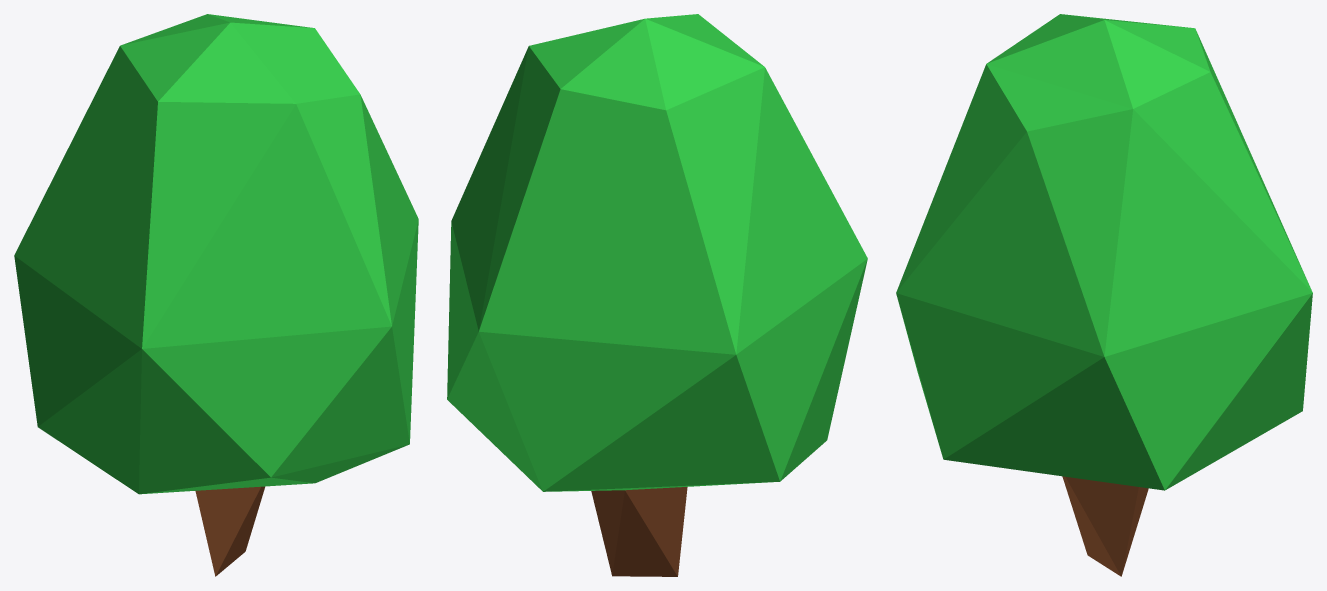
File: bush.fbx
3 renders of one model, left to right at view 1: azimuth 30°, elevation 25°; view 2: azimuth 150°, elevation 25°; view 3: azimuth 270°, elevation 25°, orthographic. The views are drawn at different scales.
Parts seen in each view (by area): view 1: Cylinder; view 2: Cylinder; view 3: Cylinder.
Boxes of the visible parts, bbox=[...] form: Cylinder: bbox=[14, 14, 418, 576]; Cylinder: bbox=[447, 14, 867, 576]; Cylinder: bbox=[896, 14, 1312, 576].
Size of the model in its own units: 185 by 274 by 190.
